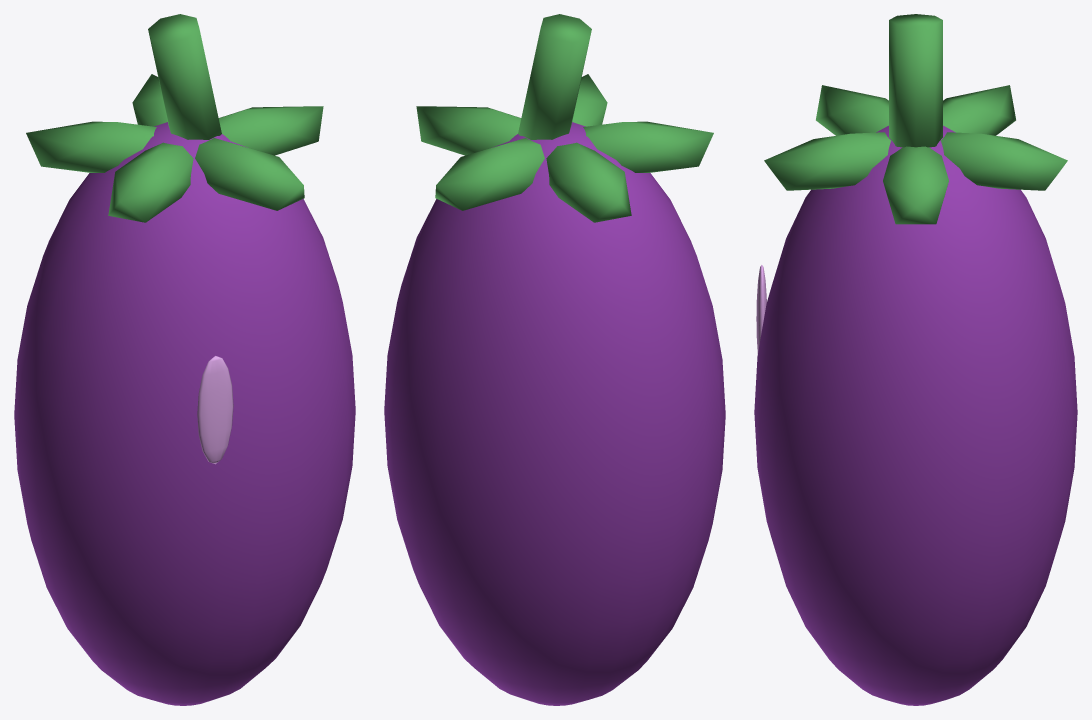
Rendered from eggplant.glb.
The picture shows the model from 3 angles, left to right: view 1: azimuth 30°, elevation 25°; view 2: azimuth 150°, elevation 25°; view 3: azimuth 270°, elevation 25°; orthographic projection.
Visible parts, largest first — view 1: eggplant; view 2: eggplant; view 3: eggplant.
Boxes of the visible parts, x1,y1,x2,y2 form: eggplant: (14, 14, 355, 705); eggplant: (384, 14, 725, 705); eggplant: (754, 14, 1077, 705).
Size of the model in its own units: 0.4651 by 1 by 0.433.
